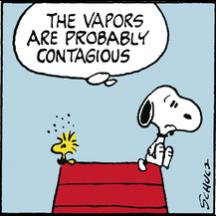snoopy: (135, 84, 203, 172)
